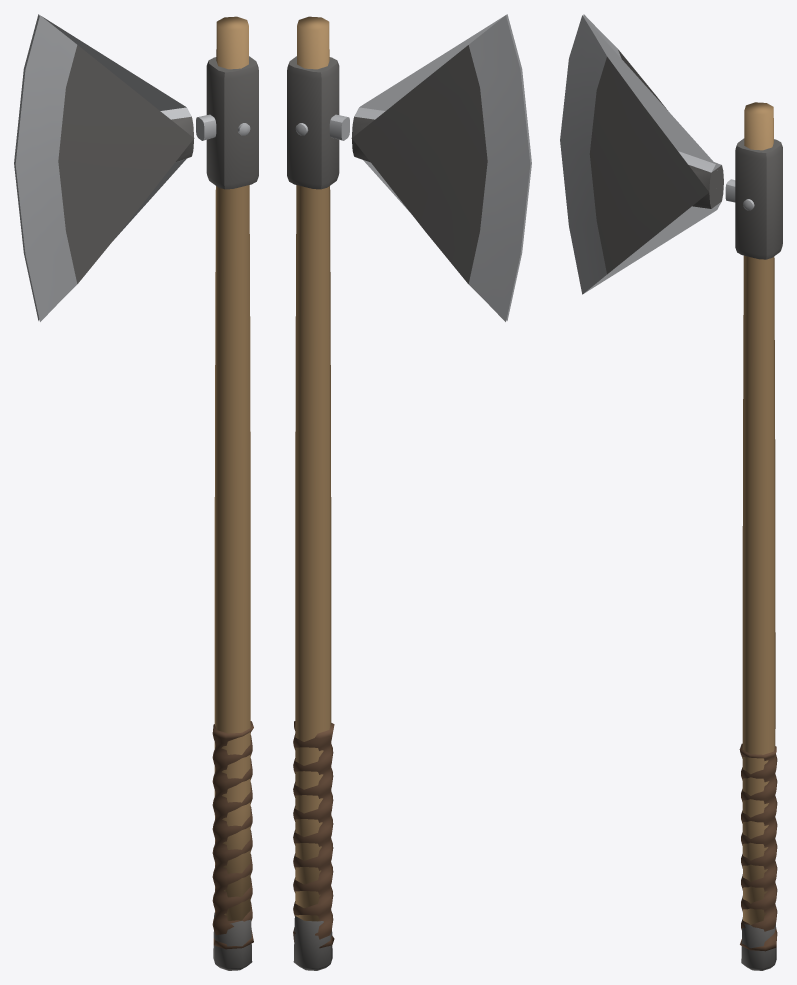
File: tongi.glb
3 renders of one model, left to right at view 1: azimuth 30°, elevation 25°; view 2: azimuth 150°, elevation 25°; view 3: azimuth 330°, elevation 25°, orthographic. The views are drawn at different scales.
Parts seen in each view (by area): view 1: tongi; view 2: tongi; view 3: tongi.
Part boxes in pixels (box(x1,y1,x2,y2)): tongi: box(14, 14, 258, 970); tongi: box(287, 14, 531, 970); tongi: box(560, 14, 782, 970).
Size of the model in its own units: 0.5117 by 2.05 by 0.1004.
